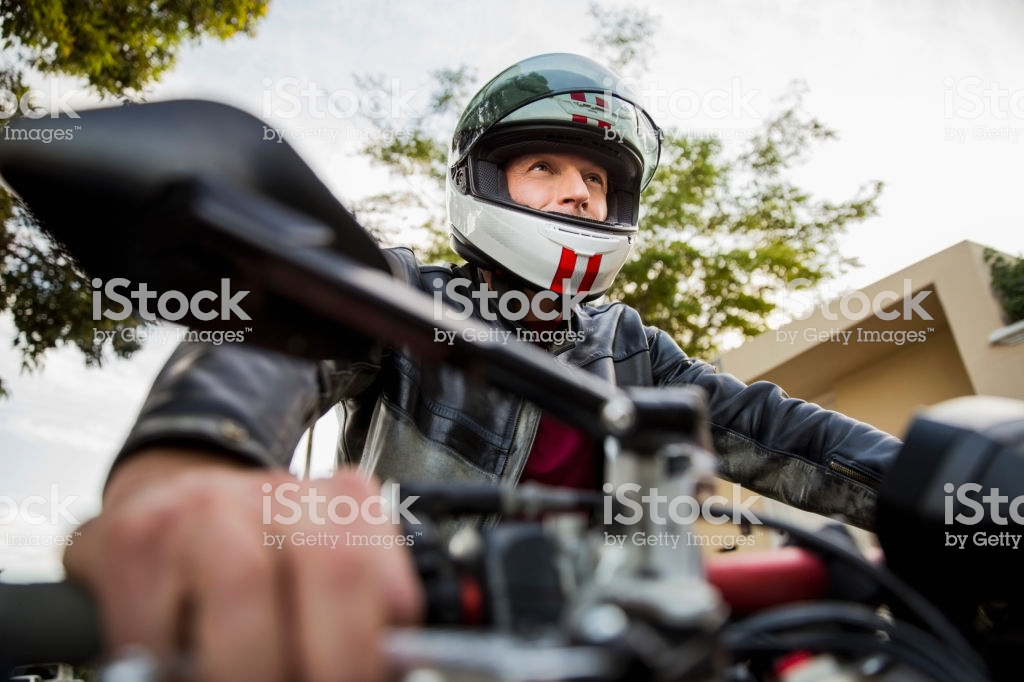helmet: (426, 54, 656, 297)
